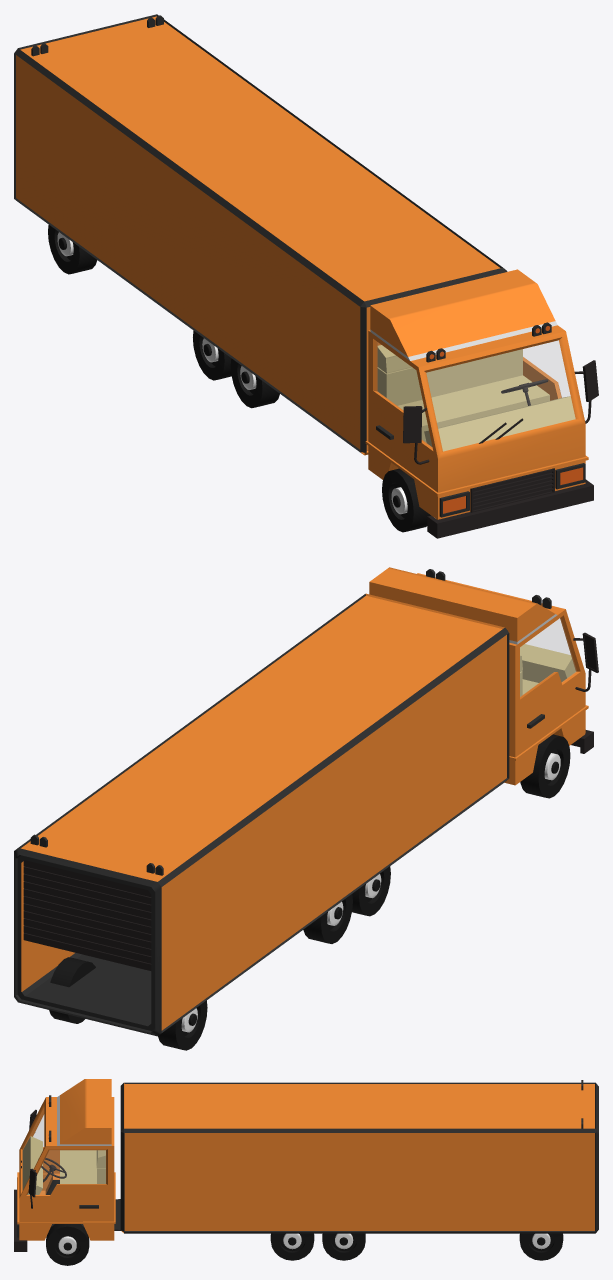
The model's file is sizeXL.gltf.
3 renders of one model, top to bottom at view 1: azimuth 30°, elevation 25°; view 2: azimuth 150°, elevation 25°; view 3: azimuth 270°, elevation 25°, orthographic. The views are drawn at different scales.
Parts seen in each view (by area): view 1: polySurface376; view 2: polySurface376; view 3: polySurface376.
Part boxes in pixels (bbox=[...]): polySurface376: bbox=[14, 14, 598, 538]; polySurface376: bbox=[14, 567, 598, 1050]; polySurface376: bbox=[14, 1079, 598, 1265].
Size of the model in its own units: 3 by 2.98 by 11.4.
